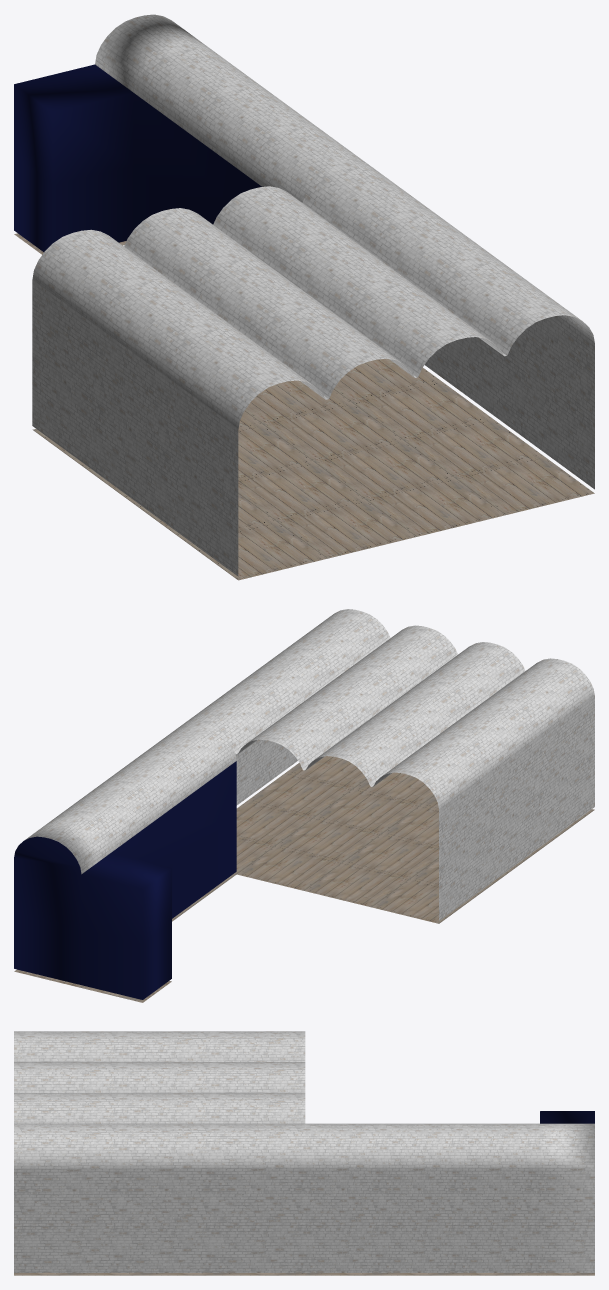
File: lightmap_test.fbx
3 renders of one model, top to bottom at view 1: azimuth 30°, elevation 25°; view 2: azimuth 150°, elevation 25°; view 3: azimuth 270°, elevation 25°, orthographic. The views are drawn at different scales.
Parts seen in each view (by area): view 1: wall, floor (2); view 2: wall, floor (2); view 3: wall, floor (2).
Boxes of the visible parts, x1=… form: wall: x1=14, y1=14, x2=594, y2=576; floor (2): x1=14, y1=233, x2=594, y2=580; wall: x1=14, y1=609, x2=594, y2=999; floor (2): x1=14, y1=756, x2=594, y2=1002; wall: x1=14, y1=1031, x2=594, y2=1272; floor (2): x1=14, y1=1273, x2=594, y2=1275.
Size of the model in its own units: 1000 by 501 by 1995.
